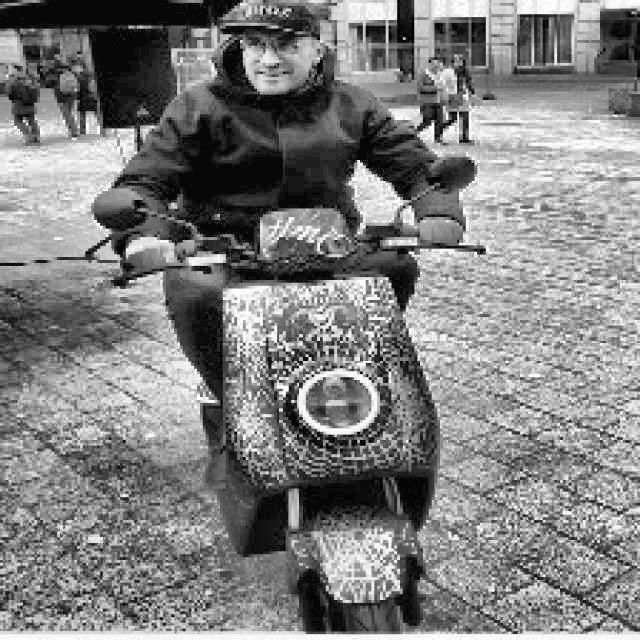motorcycle: (78, 152, 520, 639)
